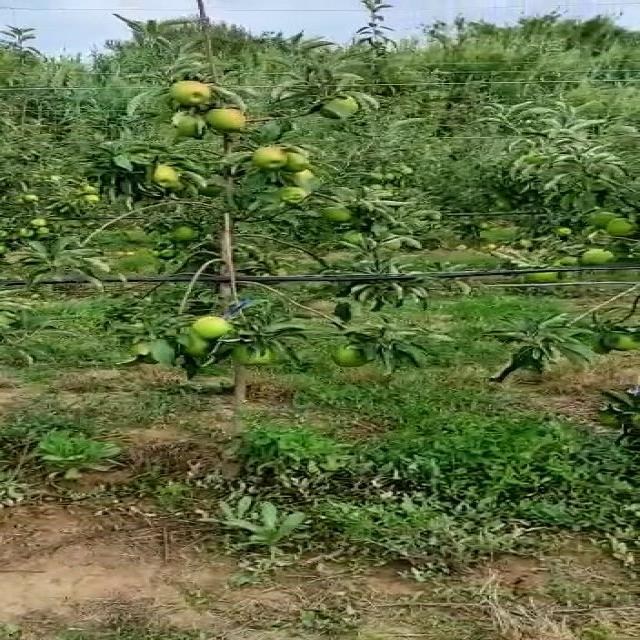100-_ripeness: (191, 315, 236, 340), (205, 107, 248, 133), (228, 345, 276, 367), (171, 80, 209, 107), (331, 345, 371, 369), (322, 95, 362, 118), (253, 145, 289, 169), (136, 339, 166, 367), (603, 218, 640, 239), (180, 117, 213, 140), (182, 335, 213, 356), (153, 166, 182, 188), (280, 153, 311, 172), (606, 333, 636, 352), (287, 174, 320, 191), (582, 249, 611, 265), (280, 186, 305, 203), (595, 212, 620, 227), (326, 205, 349, 219), (174, 227, 197, 240)
